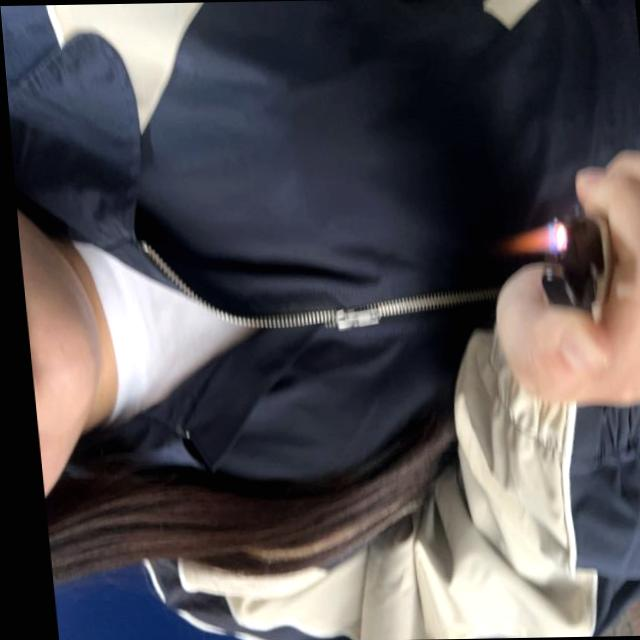helmet: (500, 222, 554, 258)
